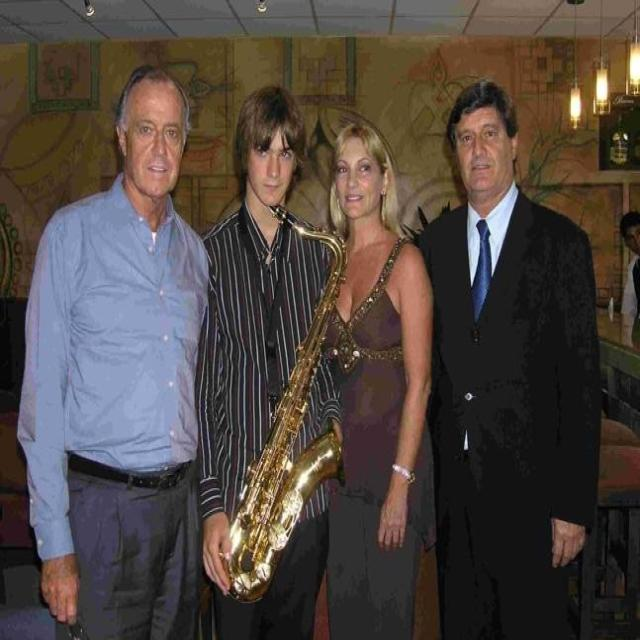saxophone: (216, 205, 349, 604)
